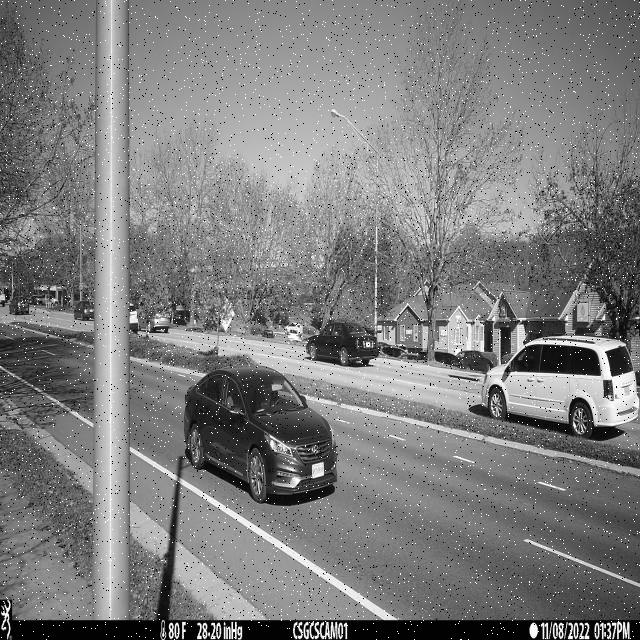Sedan: (184, 366, 337, 504)
